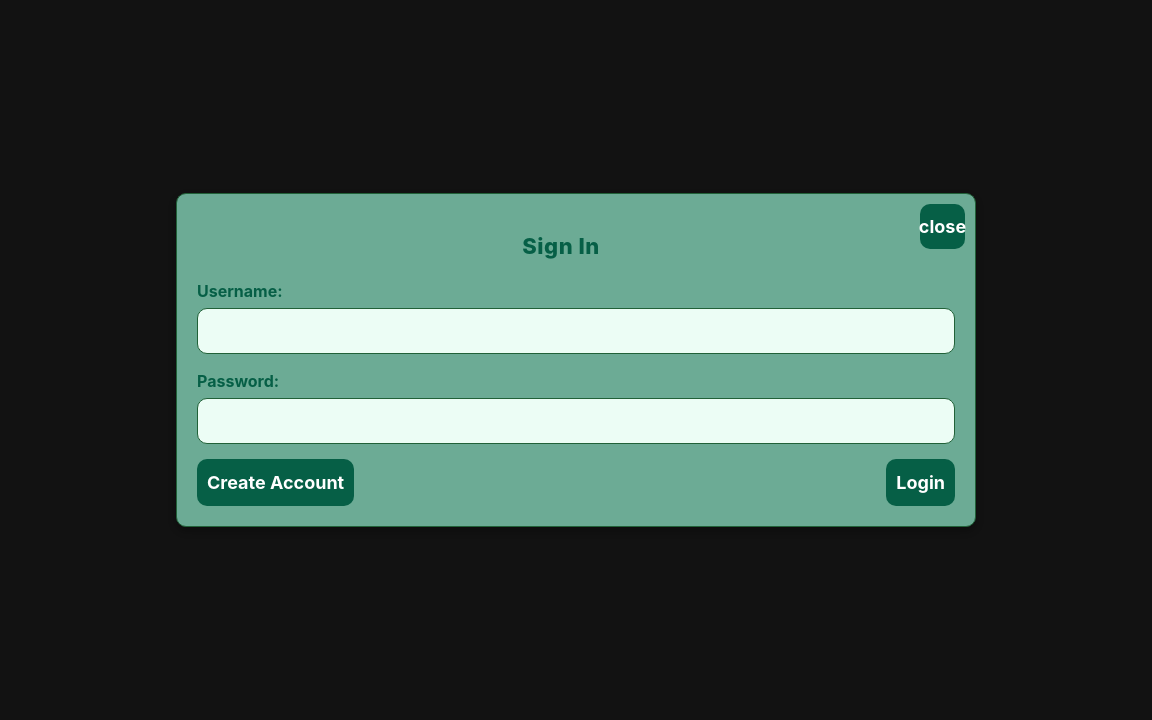
SignIn › form submission › should show a connection error when fetch throws
The width and height of the screenshot is (1152, 720).
Type "testuser" into the field labelled "Username:".
click(576, 331); type("testuser")  # box x1=197 y1=308 x2=955 y2=354
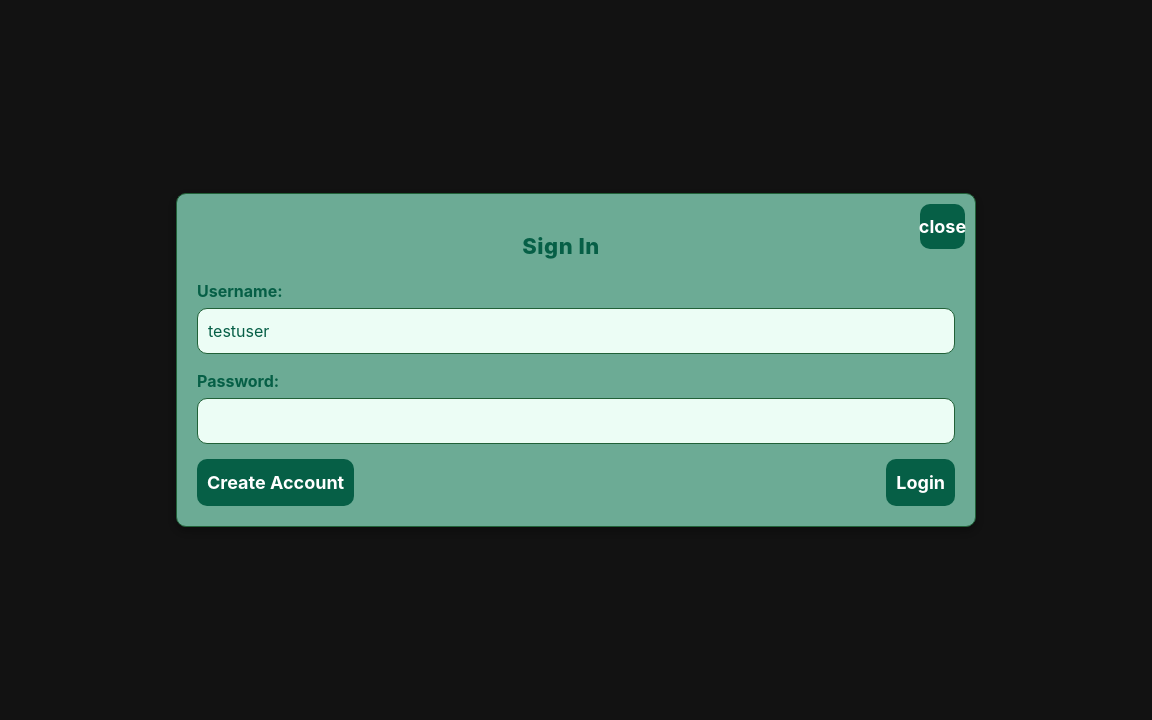
Type "password123" into the password field labelled "Password:".
click(576, 421); type("password123")  # box x1=197 y1=398 x2=955 y2=444
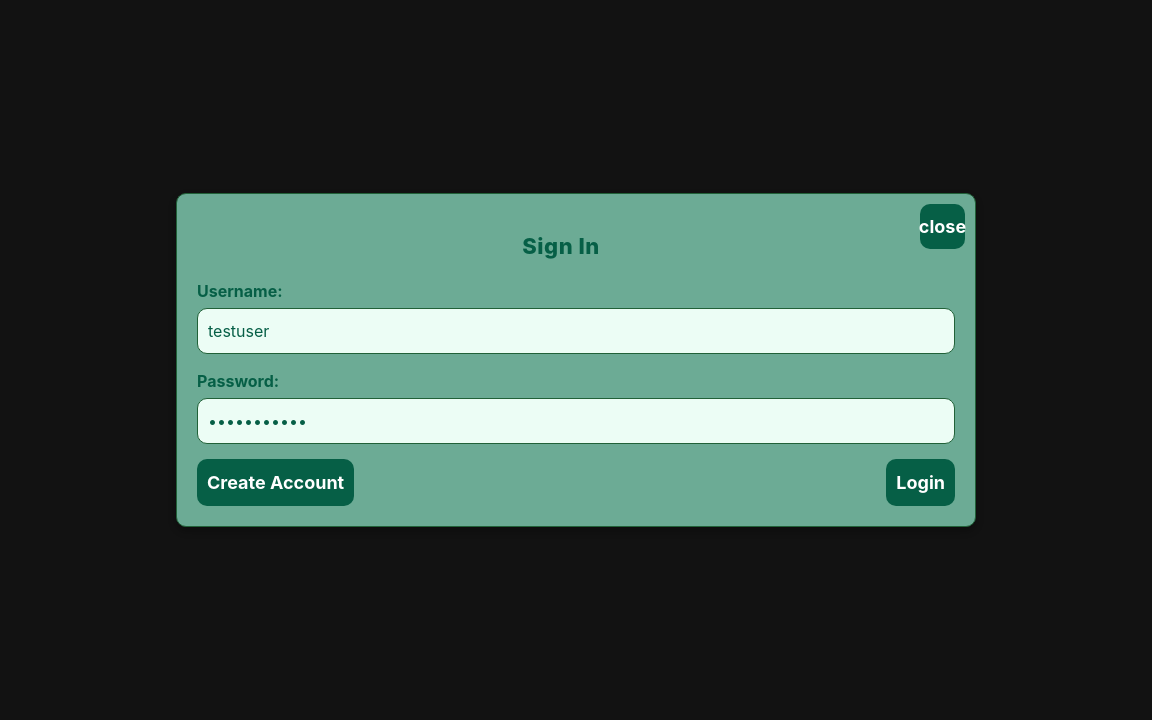
Click the button "Login".
click(921, 482)  # box x1=886 y1=459 x2=955 y2=506
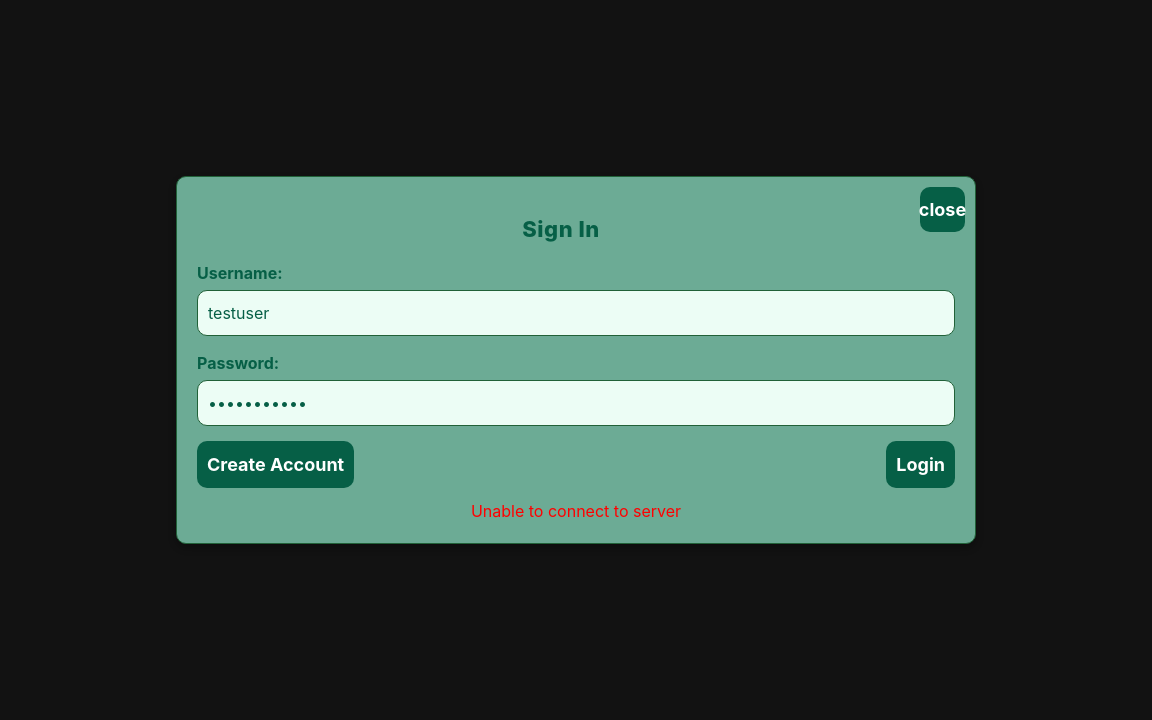
Check: the text "Unable to connect to server" is shown, box x1=471 y1=501 x2=681 y2=521
